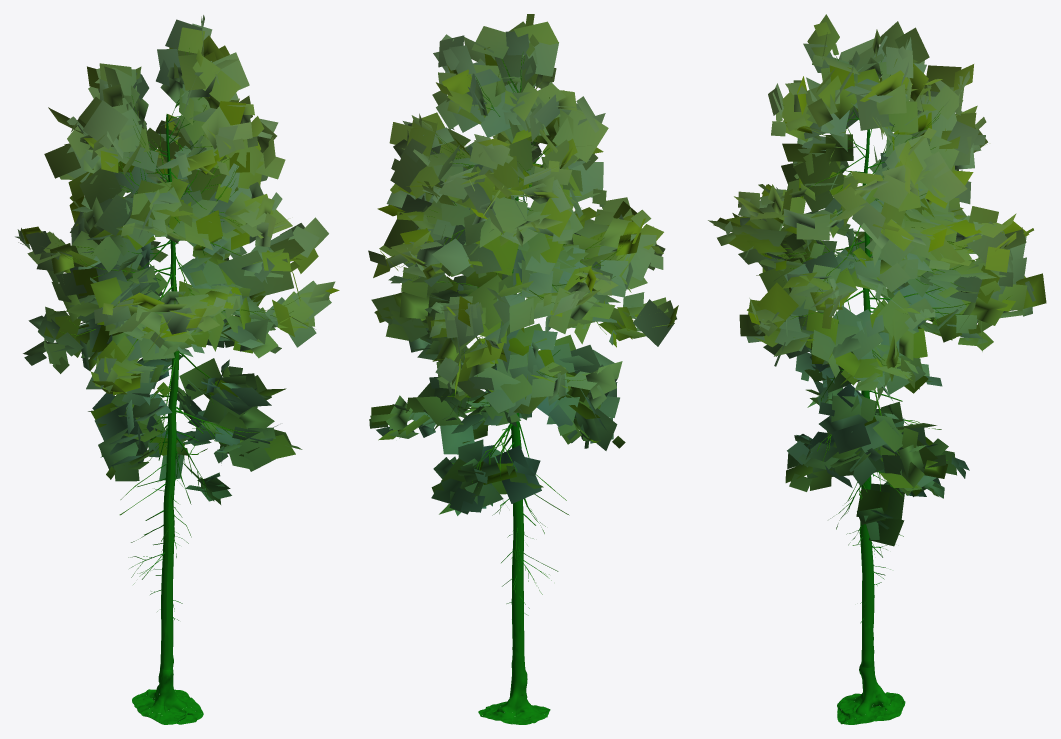
File: fir_tree_01_1.glb
3 renders of one model, left to right at view 1: azimuth 30°, elevation 25°; view 2: azimuth 150°, elevation 25°; view 3: azimuth 270°, elevation 25°, orthographic. The views are drawn at different scales.
Parts seen in each view (by area): view 1: fir_tree_01_1_cards, fir_tree_01_1_trunk; view 2: fir_tree_01_1_cards, fir_tree_01_1_trunk; view 3: fir_tree_01_1_cards, fir_tree_01_1_trunk.
Part boxes in pixels (x1,y1,x2,y2): fir_tree_01_1_cards: [15, 15, 339, 504]; fir_tree_01_1_trunk: [53, 48, 300, 724]; fir_tree_01_1_cards: [368, 14, 678, 515]; fir_tree_01_1_trunk: [395, 52, 634, 724]; fir_tree_01_1_cards: [708, 14, 1046, 546]; fir_tree_01_1_trunk: [736, 52, 1010, 724].
Bounding box in the file's own units: 5.82 × 14.15 × 6.22.
